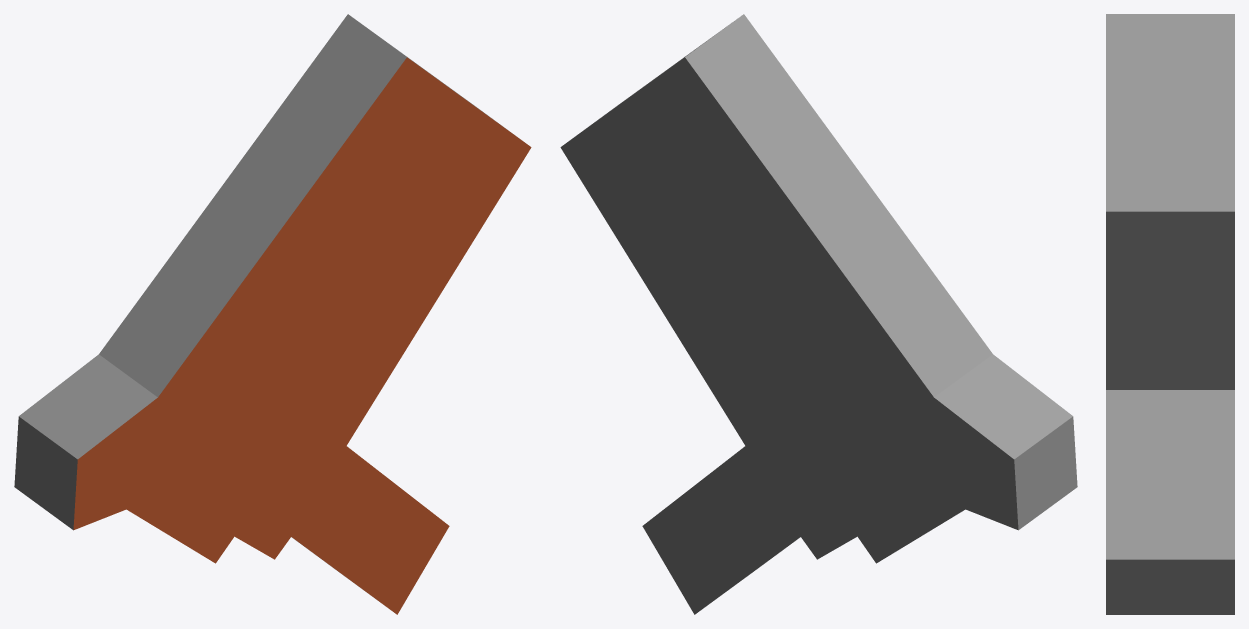
Rendered from construction_2421_assumed_A_Casa_h6m.obj.
3 renders of one model, left to right at view 1: azimuth 30°, elevation 25°; view 2: azimuth 150°, elevation 25°; view 3: azimuth 270°, elevation 25°, orthographic. The views are drawn at different scales.
Visible parts, largest first — view 1: construction_2421_assumed_A_Casa; view 2: construction_2421_assumed_A_Casa; view 3: construction_2421_assumed_A_Casa.
Part boxes in pixels (<box>): construction_2421_assumed_A_Casa: <box>14,14,531,614</box>; construction_2421_assumed_A_Casa: <box>560,14,1077,614</box>; construction_2421_assumed_A_Casa: <box>1106,14,1234,614</box>.
Bounding box in the file's own units: 26.86 × 31.12 × 6.
